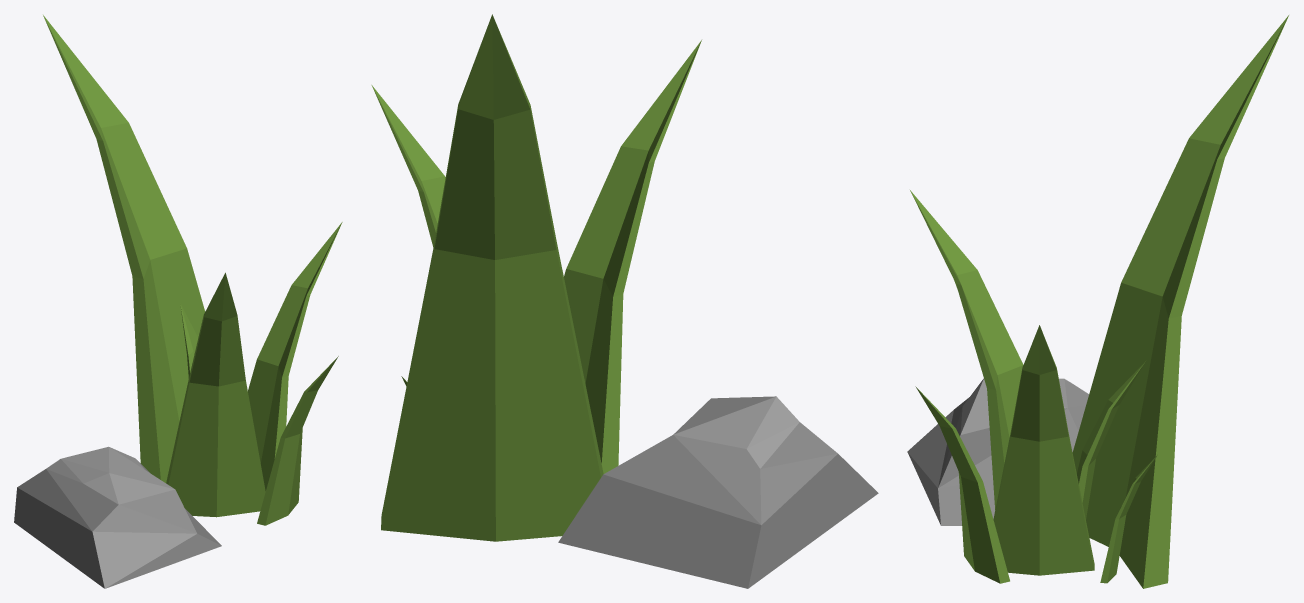
File: Grass.glb
3 renders of one model, left to right at view 1: azimuth 30°, elevation 25°; view 2: azimuth 150°, elevation 25°; view 3: azimuth 270°, elevation 25°, orthographic. The views are drawn at different scales.
Parts seen in each view (by area): view 1: Grass; view 2: Grass; view 3: Grass.
Boxes of the visible parts, left/top/right/bottom form: Grass: left=14, top=15, right=342, bottom=588; Grass: left=371, top=14, right=878, bottom=588; Grass: left=907, top=15, right=1288, bottom=588.
Size of the model in its own units: 0.6835 by 0.9383 by 0.6559.
